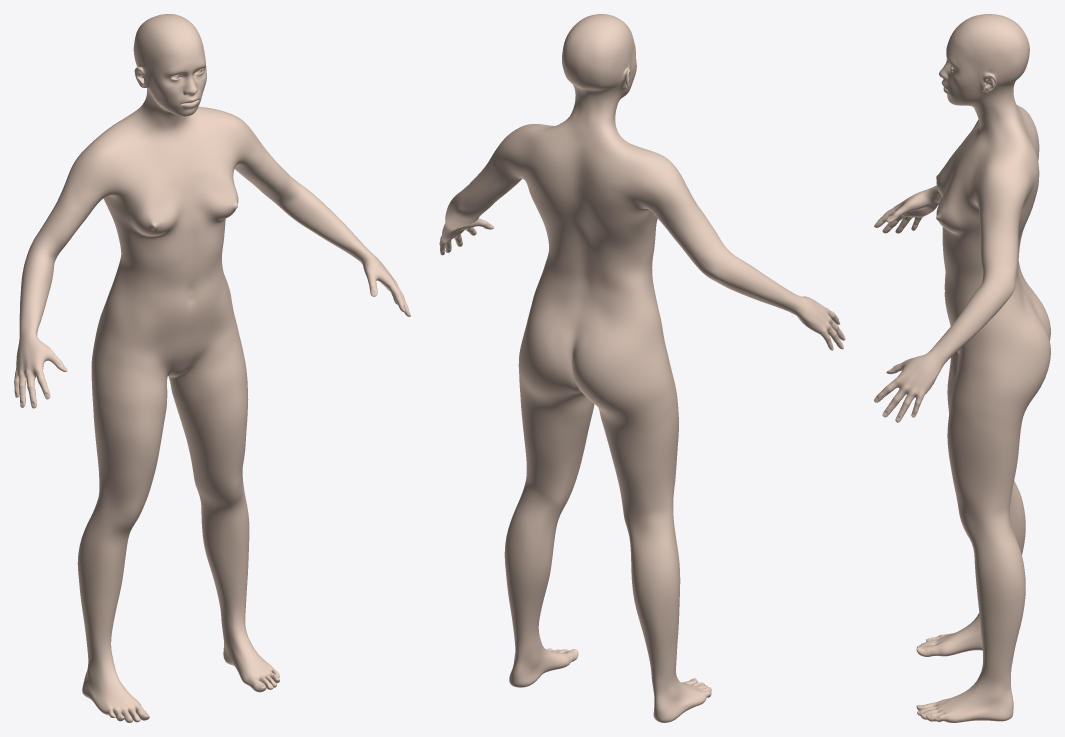
The model's file is body-female.glb.
3 views of the same model, side by side, from view 1: azimuth 30°, elevation 25°; view 2: azimuth 150°, elevation 25°; view 3: azimuth 270°, elevation 25° (orthographic). The views are drawn at different scales.
Visible parts, largest first — view 1: ThunderBody; view 2: ThunderBody; view 3: ThunderBody.
Boxes of the visible parts, bbox=[...] form: ThunderBody: bbox=[14, 14, 410, 722]; ThunderBody: bbox=[439, 14, 845, 722]; ThunderBody: bbox=[874, 14, 1050, 722].
Bounding box in the file's own units: 0.9704 × 1.59 × 0.3816.
